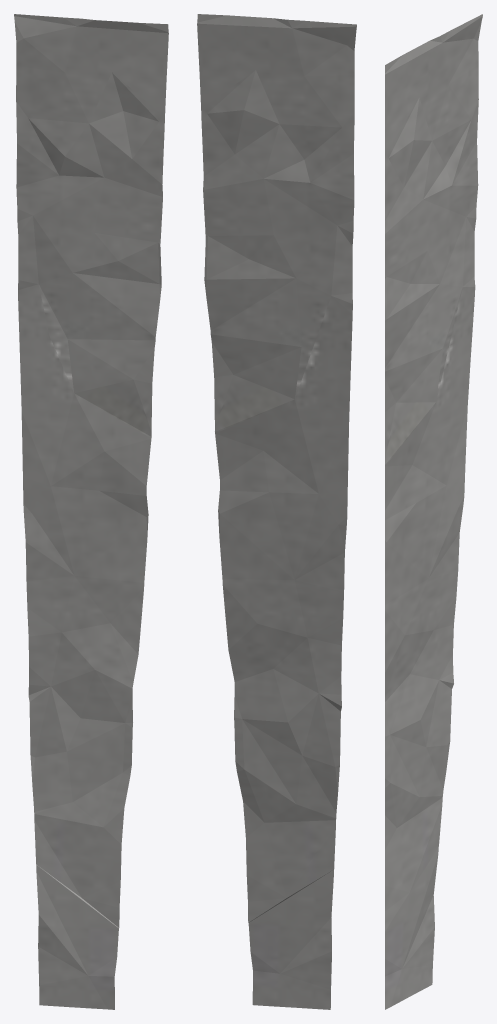
3 renders of one model, left to right at view 1: azimuth 30°, elevation 25°; view 2: azimuth 210°, elevation 25°; view 3: azimuth 270°, elevation 25°, orthographic. The views are drawn at different scales.
Bounding box in the file's own units: 0.0953 × 0.8374 × 0.0765.
1 material, 1 textured.
